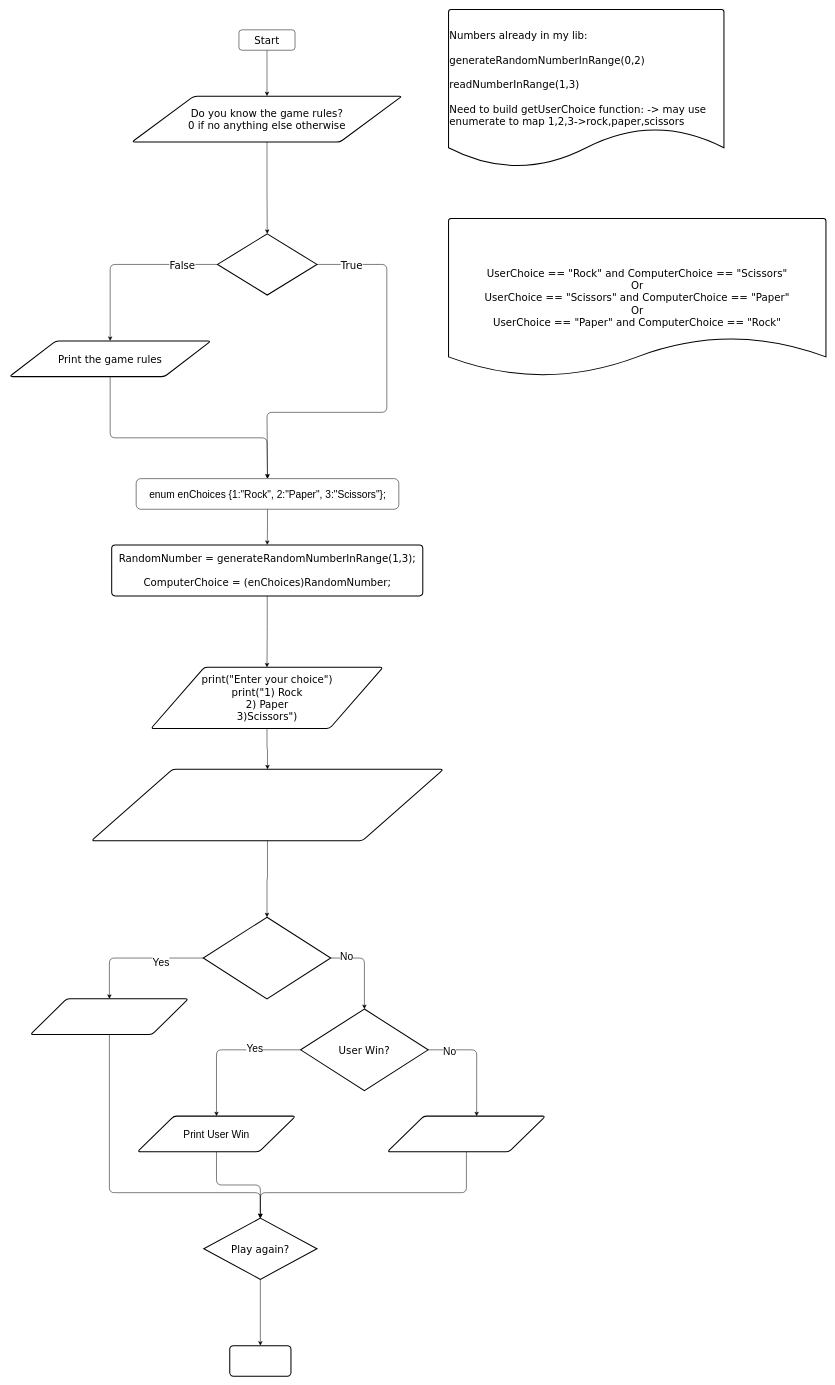
Some shapes in this 835 by 1385 pixel diagram are drawn without their labels. Each missing label, with the centre of its shape:
Computer Win?: [266,957]
End: [260,1360]
Print Computer Win: [109,1016]
Print Draw: [466,1133]
user input?: [267,264]
UserInput = readNumberInRange(1,3); UserChoice = enChoices) UserInput;: [267,805]
